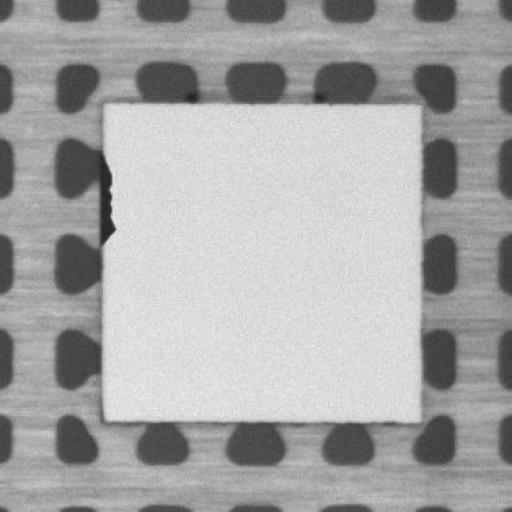DIE_BROKEN: (94, 154, 118, 250)
